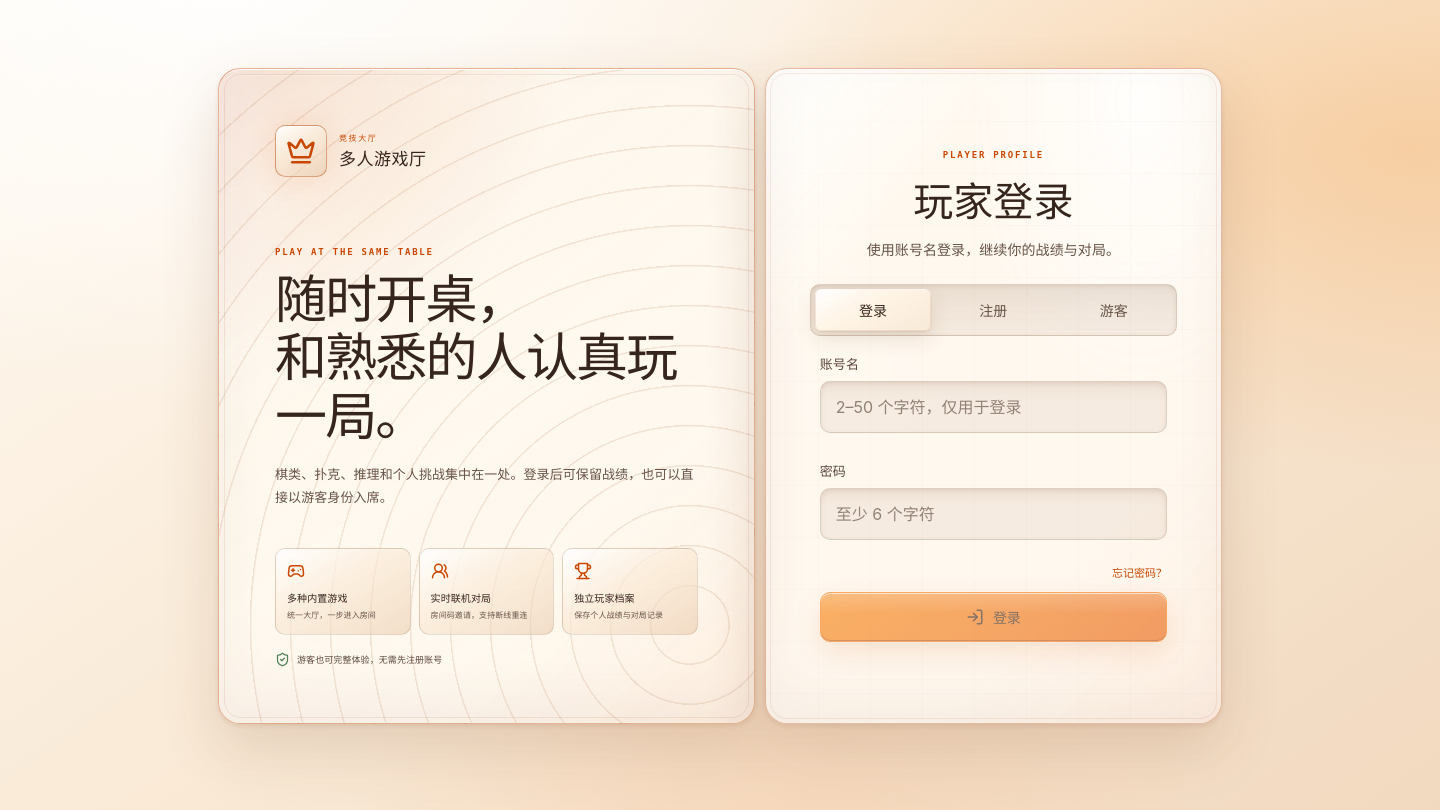
Scenario: AccountGate › groups registration controls for a compact responsive layout
The image size is (1440, 810).
Step 1. Click the button "注册" → (993, 310), box x1=935 y1=288 x2=1052 y2=330
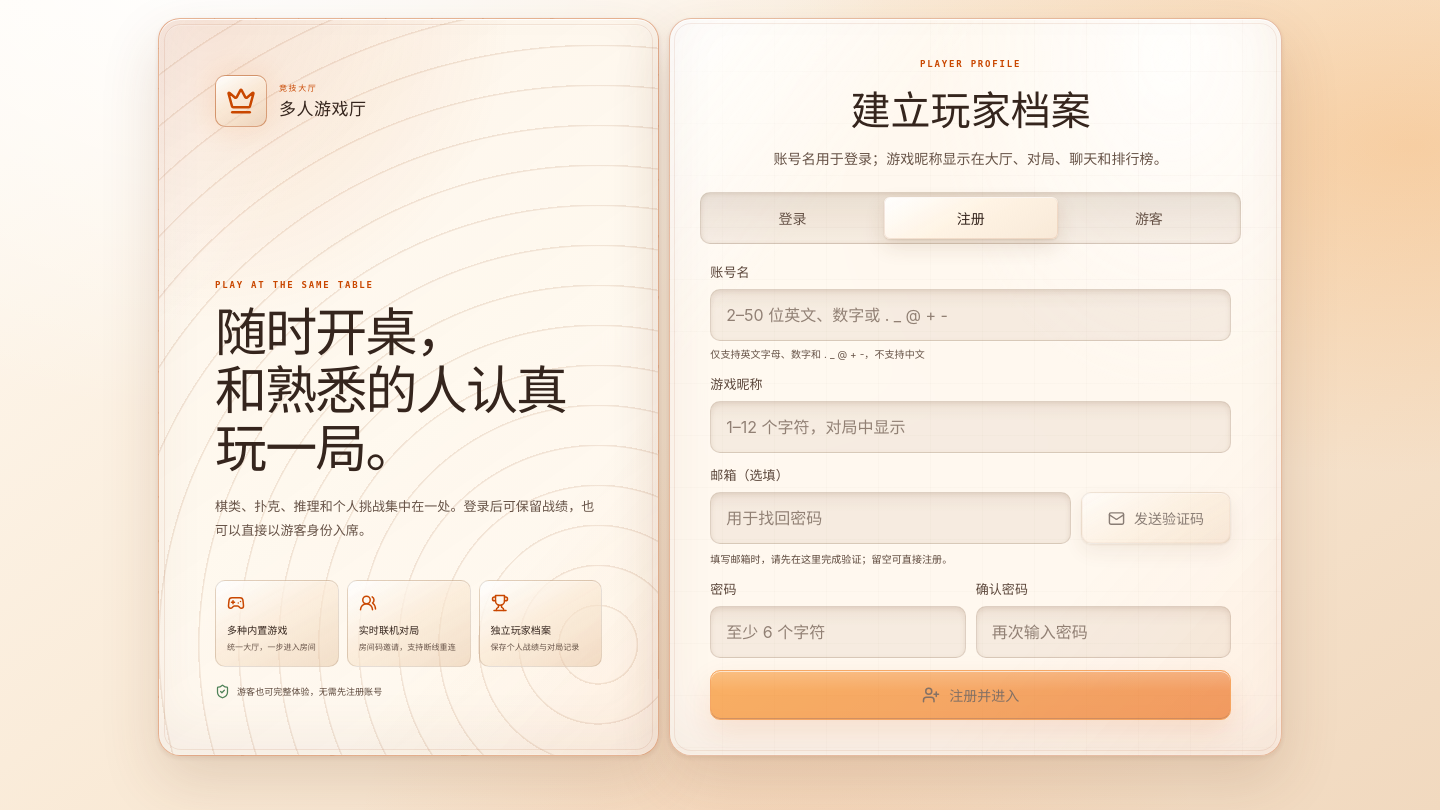
Expected: the field labelled "邮箱（选填）" is shown, x1=710 y1=492 x2=1071 y2=544
Expected: the button with class "ui-button" reads "发送验证码", x1=1081 y1=492 x2=1231 y2=544
